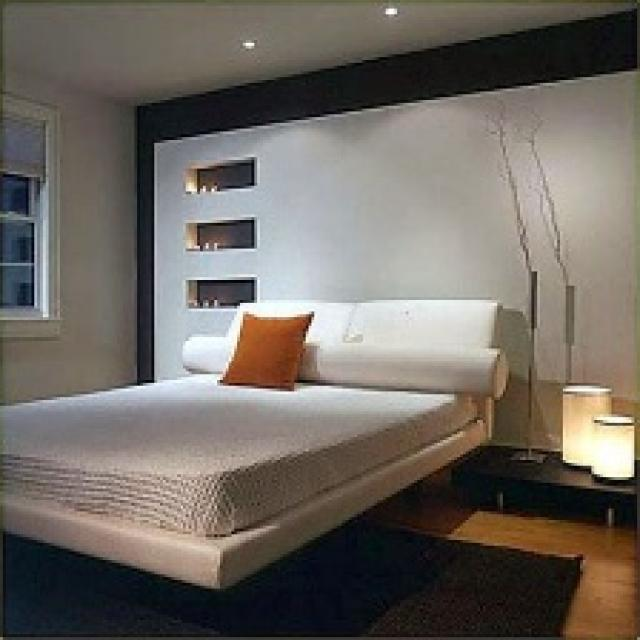Bed: (0, 297, 509, 589)
